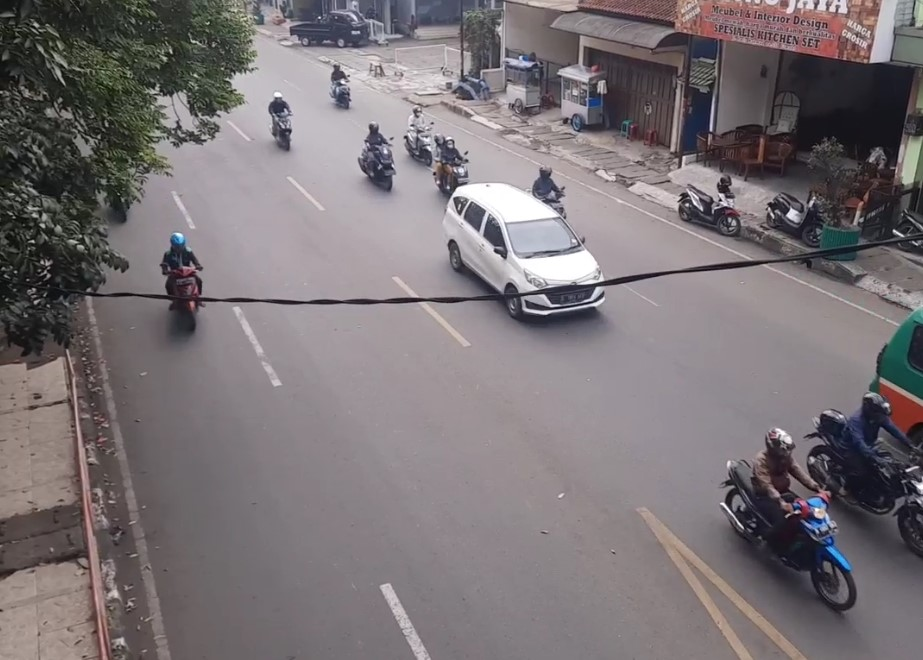mobil: (499, 218, 605, 319)
motor: (718, 427, 859, 621), (809, 388, 923, 547), (156, 231, 204, 335), (359, 121, 396, 189), (433, 133, 470, 193), (267, 92, 299, 149), (403, 107, 434, 163), (328, 63, 356, 111)
